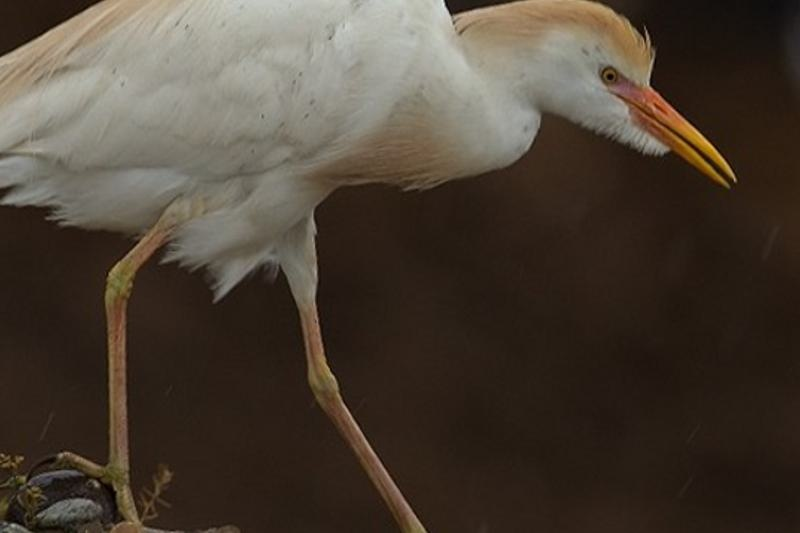egret: (1, 2, 736, 533)
